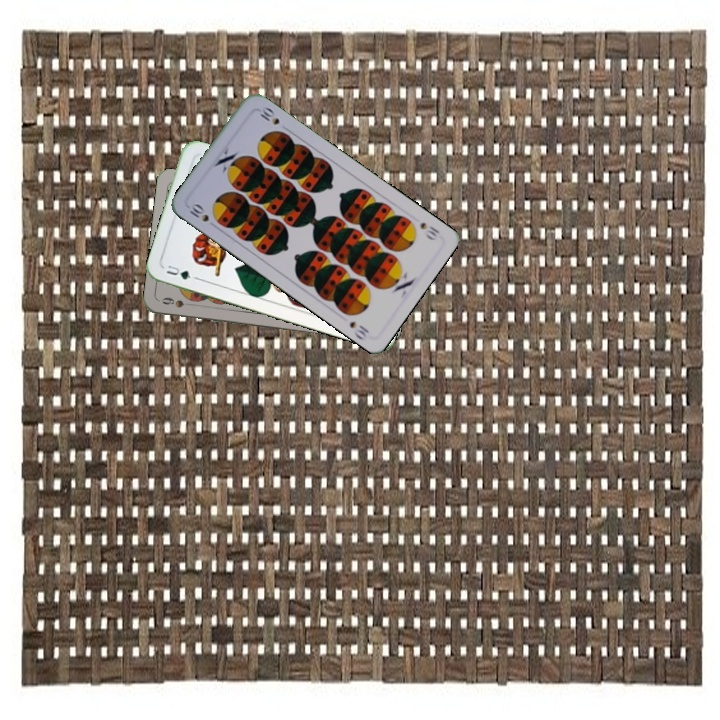GU: (162, 261, 200, 282)
S10: (183, 199, 220, 231), (416, 218, 442, 243)
S9: (158, 293, 198, 310)
